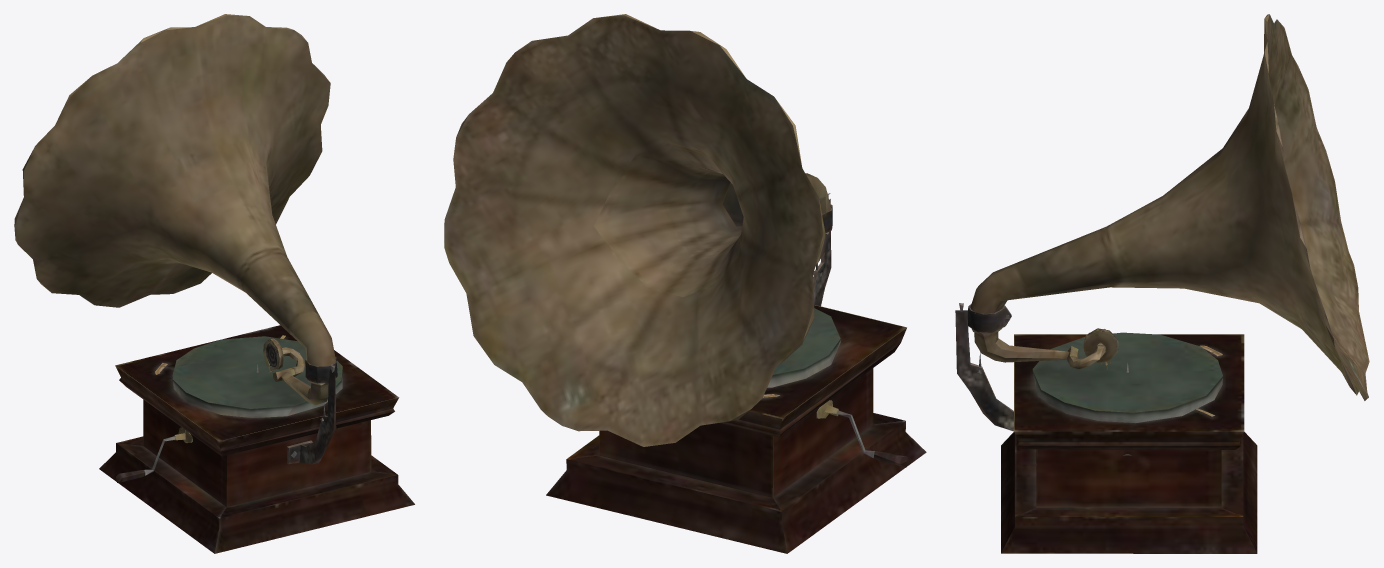
File: gramophone.lod1.glb
The picture shows the model from 3 angles, left to right: view 1: azimuth 30°, elevation 25°; view 2: azimuth 150°, elevation 25°; view 3: azimuth 270°, elevation 25°; orthographic projection. The views are drawn at different scales.
Parts seen in each view (by area): view 1: gramophone; view 2: gramophone; view 3: gramophone.
Boxes of the visible parts, box(x1,y1,x2,y2) form: gramophone: box(14, 14, 414, 553); gramophone: box(444, 14, 926, 553); gramophone: box(955, 14, 1369, 553).
Size of the model in its own units: 0.5348 by 0.6969 by 0.563.
Materials: 1 (1 with a texture image).
